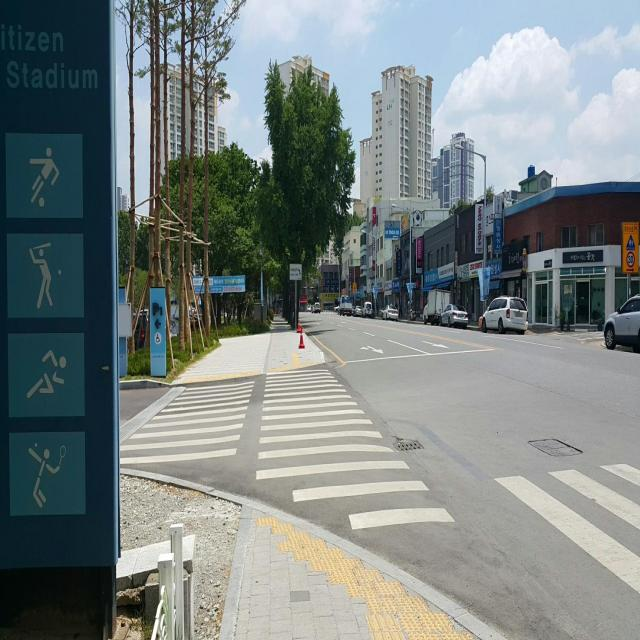횡단보도: (117, 364, 458, 534), (495, 422, 640, 636)
